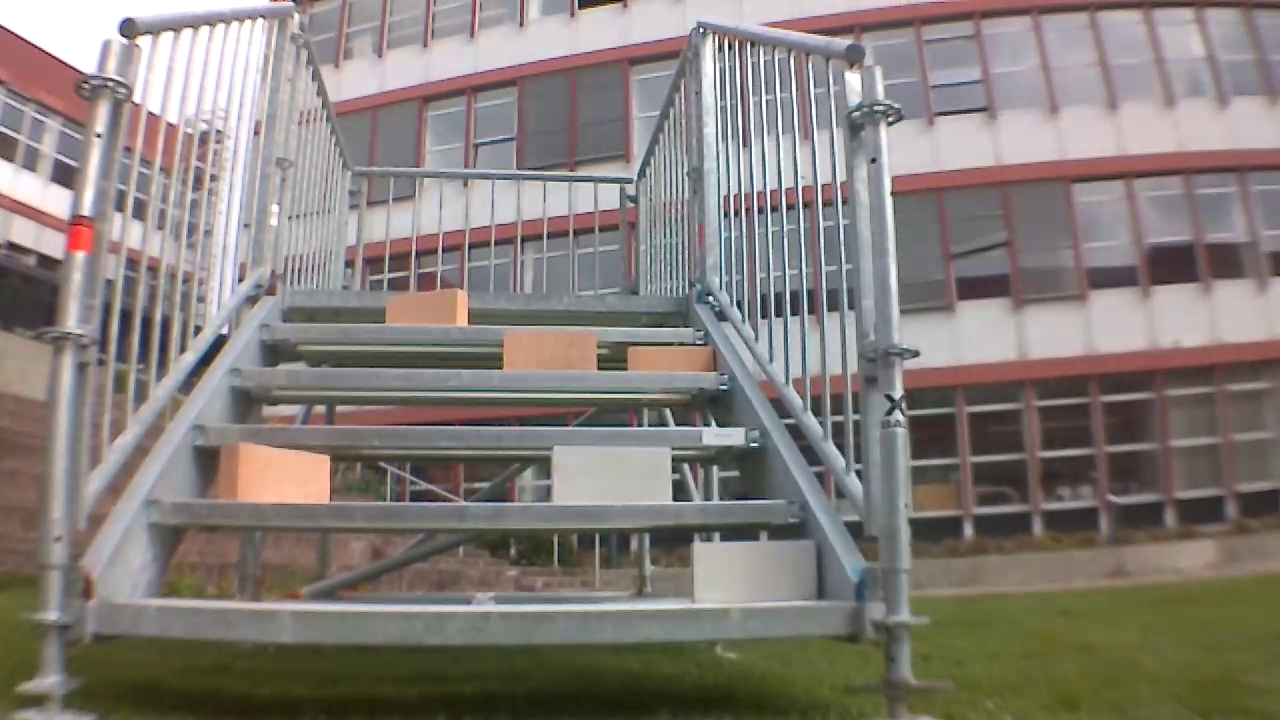brick: (691, 541, 815, 599), (217, 442, 328, 504), (551, 447, 671, 504), (502, 329, 595, 368), (385, 291, 466, 324), (626, 345, 713, 370)
edge: (98, 599, 861, 643), (148, 500, 801, 526), (196, 425, 761, 447), (229, 367, 732, 390), (261, 322, 705, 343), (290, 291, 685, 312)
stairs: (7, 1, 950, 714)
steps: (89, 286, 866, 654)
